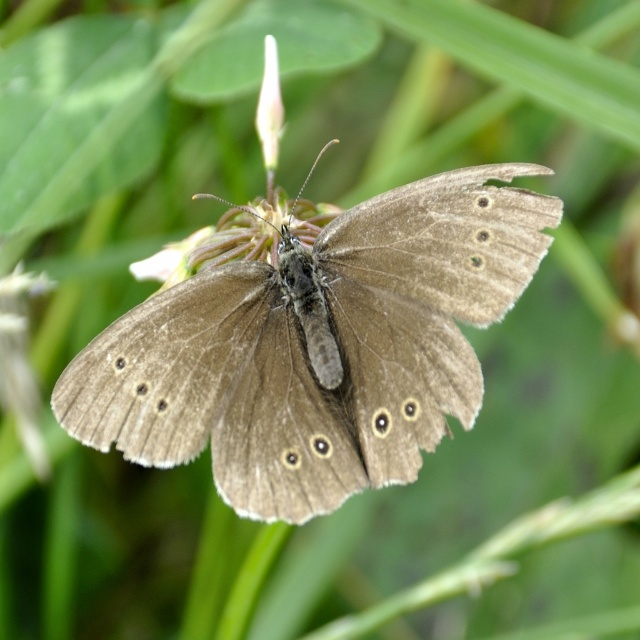Butterfly: (50, 138, 565, 527)
